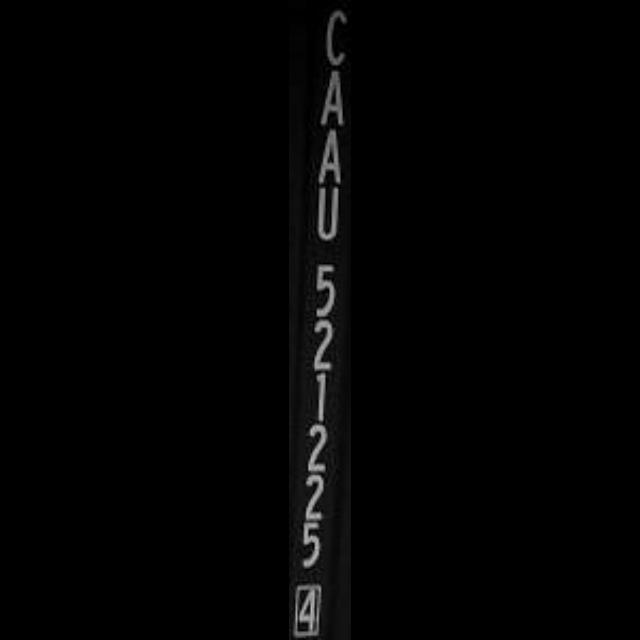1: (305, 370, 335, 420)
2: (305, 314, 341, 376), (300, 419, 338, 473), (300, 471, 336, 523)
4: (289, 580, 325, 640)
5: (310, 256, 344, 320), (297, 522, 329, 570)
a: (314, 69, 352, 127), (316, 126, 352, 182)
c: (315, 0, 351, 68)
u: (310, 183, 348, 249)
